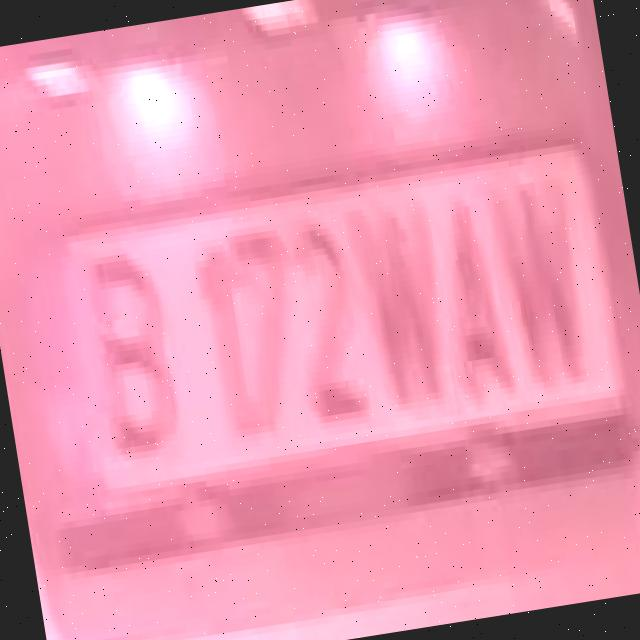Autre: (0, 130, 635, 534)
